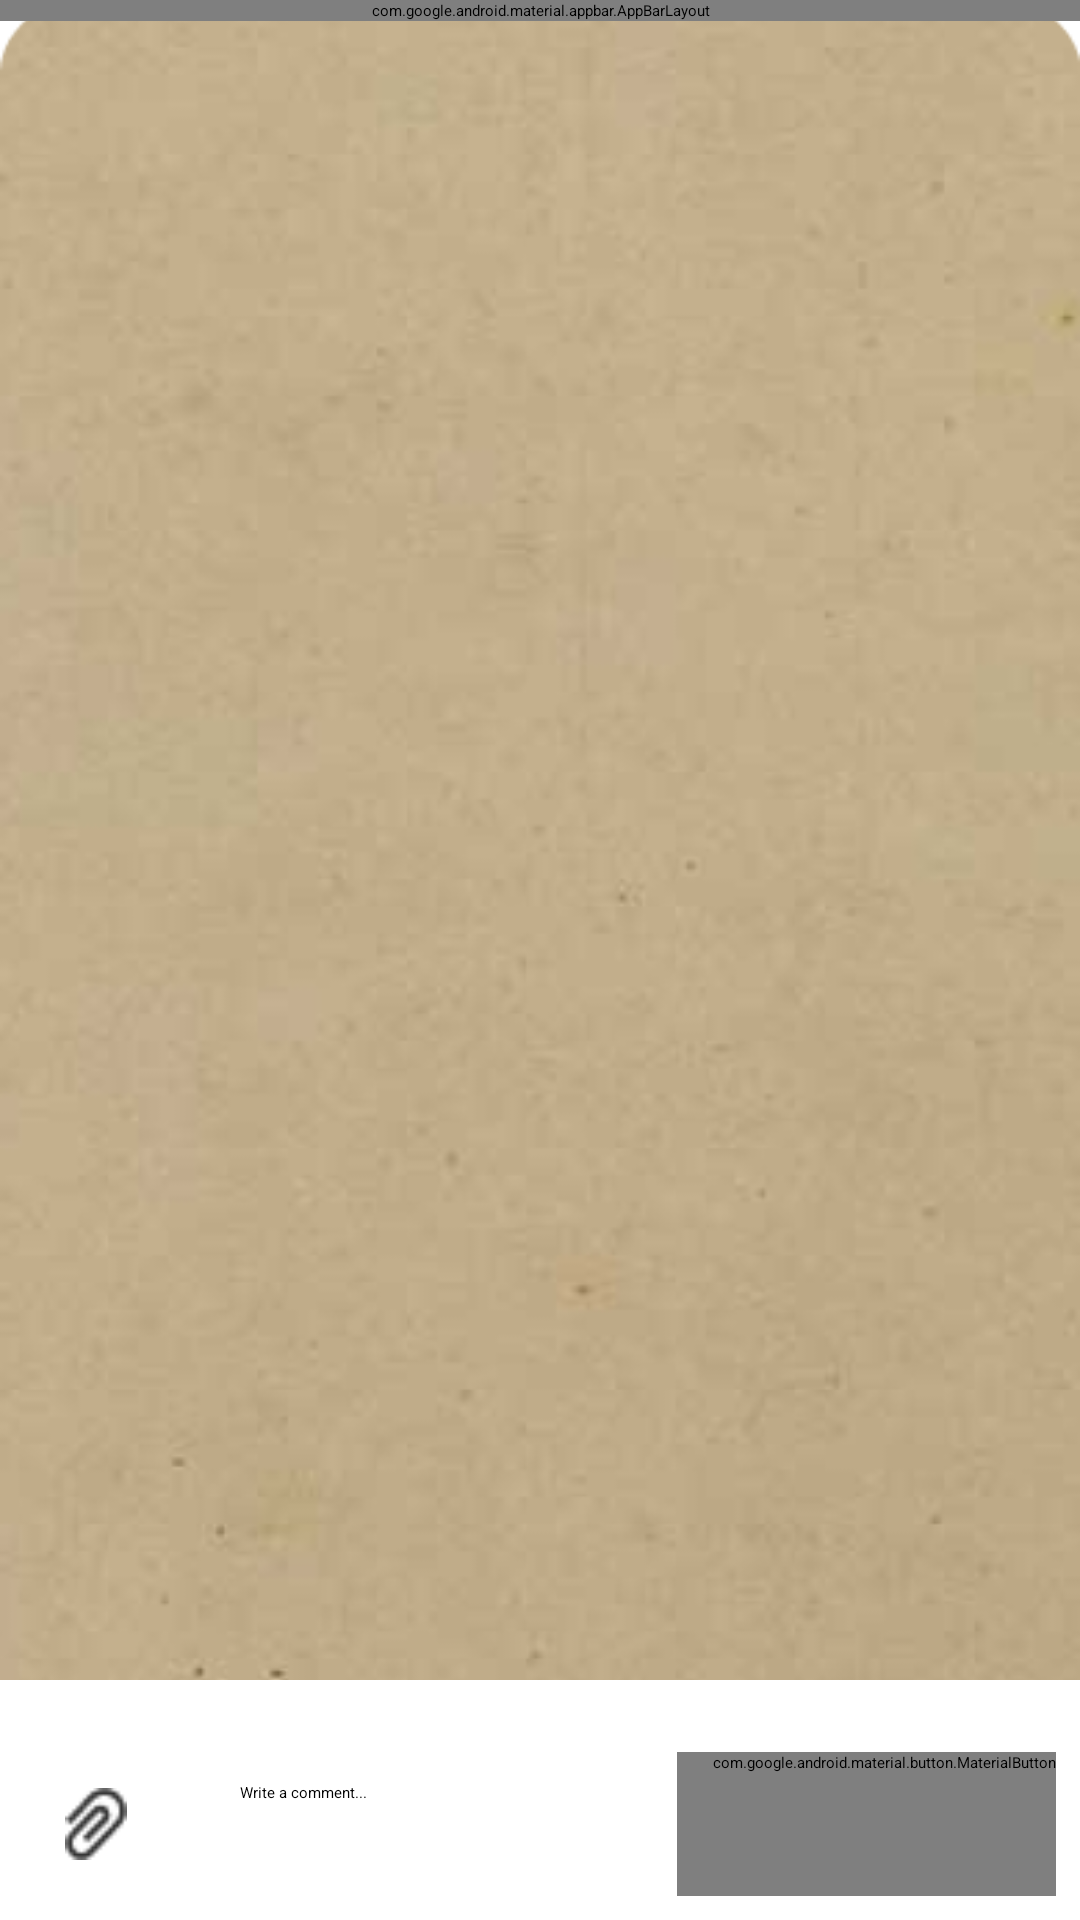

Screen size 1080*1920. Icon name, then its box in pixels as (x1, y1, x2, y2):
Attach file: (65, 1788, 127, 1860)
